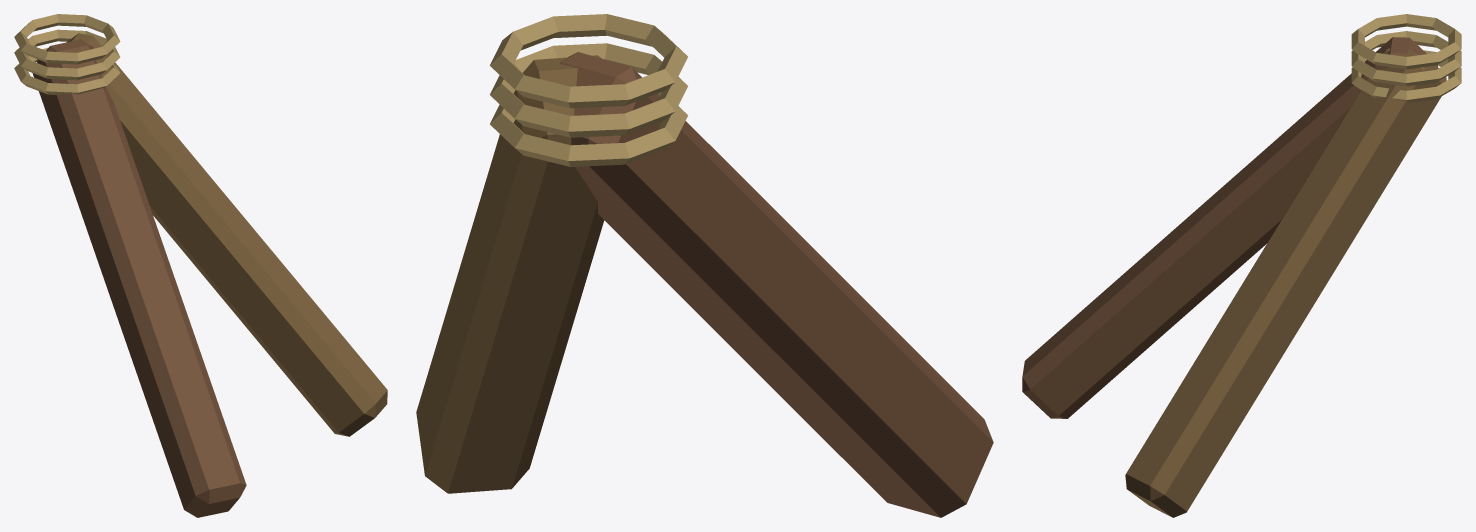
Rendered from rootfall-brace-right.glb.
The picture shows the model from 3 angles, left to right: view 1: azimuth 30°, elevation 25°; view 2: azimuth 150°, elevation 25°; view 3: azimuth 270°, elevation 25°; orthographic projection. The views are drawn at different scales.
Visible parts, largest first — view 1: rootfall-brace-right; view 2: rootfall-brace-right; view 3: rootfall-brace-right.
Part boxes in pixels (x1,y1,x2,y2): rootfall-brace-right: [14, 14, 387, 517]; rootfall-brace-right: [416, 14, 993, 517]; rootfall-brace-right: [1022, 14, 1461, 517].
Size of the model in its own units: 1.17 by 1.59 by 1.64.
Materials: 1 (1 with a texture image).
